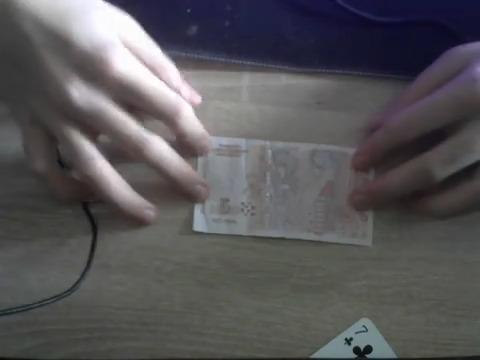5leva: (192, 136, 374, 248)
